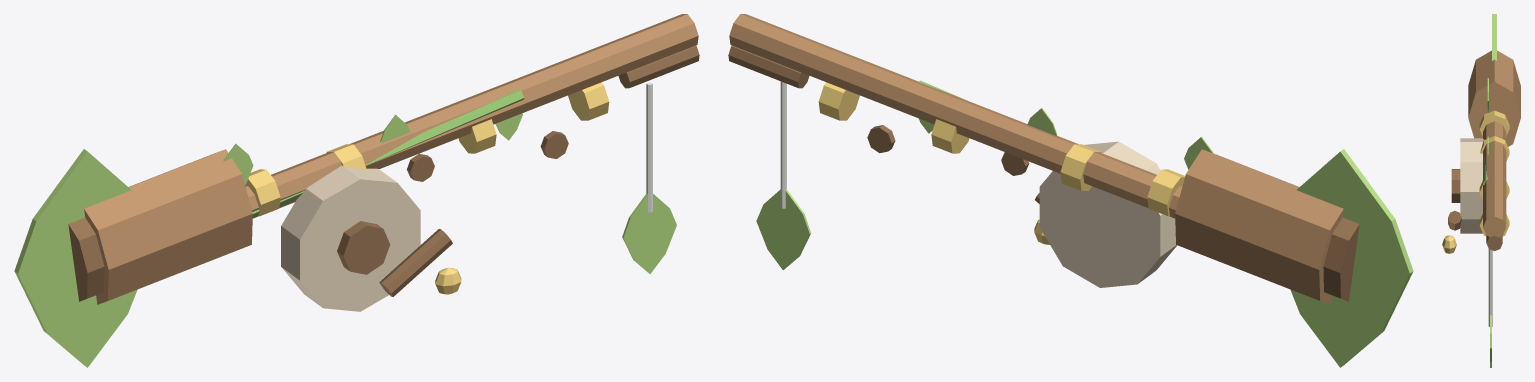
3 views of the same model, side by side, from view 1: azimuth 30°, elevation 25°; view 2: azimuth 150°, elevation 25°; view 3: azimuth 270°, elevation 25° (orthographic). The views are drawn at different scales.
Visible parts, largest first — view 1: rounded handle grip, round cream reel body, main tapered wooden rod, large leaf grip guard, simple leaf lure, dark handle butt, dark reel hole, short reel arm, green vine wrap along rod, dark rod tip, chunky gold binding, chunky gold binding.001 (+6 smaller); view 2: rounded handle grip, main tapered wooden rod, large leaf grip guard, round cream reel body, simple leaf lure, dark handle butt, dark rod tip, chunky gold binding, chunky gold binding.001, chunky gold binding.002, straight pale fishing line, chunky gold binding.003 (+1 smaller); view 3: rounded handle grip, main tapered wooden rod, round cream reel body, chunky gold binding.001, straight pale fishing line, dark reel hole, short reel arm, large leaf grip guard, round reel knob, dark rod tip, chunky gold binding.002, chunky gold binding (+3 smaller).
Part boxes in pixels (x1,y1,x2,y2): rounded handle grip: [84, 149, 252, 304]; round cream reel body: [281, 165, 420, 311]; main tapered wooden rod: [245, 14, 698, 218]; large leaf grip guard: [14, 149, 137, 367]; simple leaf lure: [622, 193, 676, 274]; dark handle butt: [68, 217, 104, 301]; dark reel hole: [337, 221, 390, 274]; short reel arm: [379, 229, 452, 296]; green vine wrap along rod: [252, 89, 524, 217]; dark rod tip: [618, 45, 699, 88]; chunky gold binding: [568, 82, 609, 120]; chunky gold binding.001: [245, 169, 280, 216]; rounded handle grip: [1175, 149, 1343, 304]; main tapered wooden rod: [729, 14, 1182, 218]; large leaf grip guard: [1290, 149, 1413, 367]; round cream reel body: [1039, 141, 1176, 287]; simple leaf lure: [756, 189, 810, 269]; dark handle butt: [1323, 217, 1359, 301]; dark rod tip: [728, 45, 809, 88]; chunky gold binding: [818, 82, 859, 120]; chunky gold binding.001: [1147, 169, 1185, 216]; chunky gold binding.002: [1060, 144, 1101, 190]; straight pale fishing line: [780, 81, 786, 208]; chunky gold binding.003: [931, 119, 969, 153]; rounded handle grip: [1468, 50, 1520, 146]; main tapered wooden rod: [1483, 121, 1506, 236]; round cream reel body: [1460, 138, 1483, 233]; chunky gold binding.001: [1479, 110, 1509, 136]; straight pale fishing line: [1488, 249, 1492, 326]; dark reel hole: [1451, 169, 1460, 202]; short reel arm: [1448, 210, 1461, 230]; large leaf grip guard: [1492, 14, 1496, 60]; round reel knob: [1442, 235, 1456, 253]; dark rod tip: [1486, 235, 1502, 250]; chunky gold binding.002: [1480, 136, 1509, 161]; chunky gold binding: [1479, 214, 1509, 236].
Size of the model in its own units: 2.89 by 1.05 by 0.4374.
